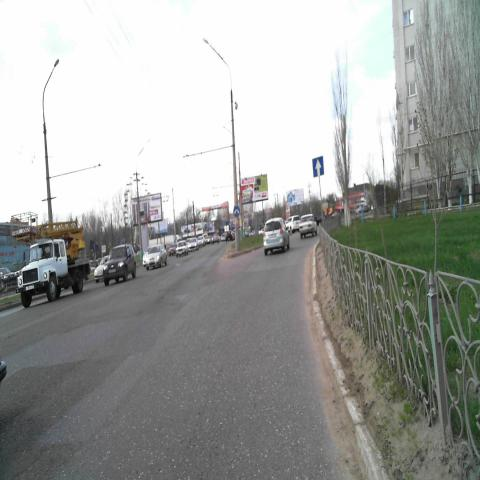5_5: (312, 156, 325, 179)
